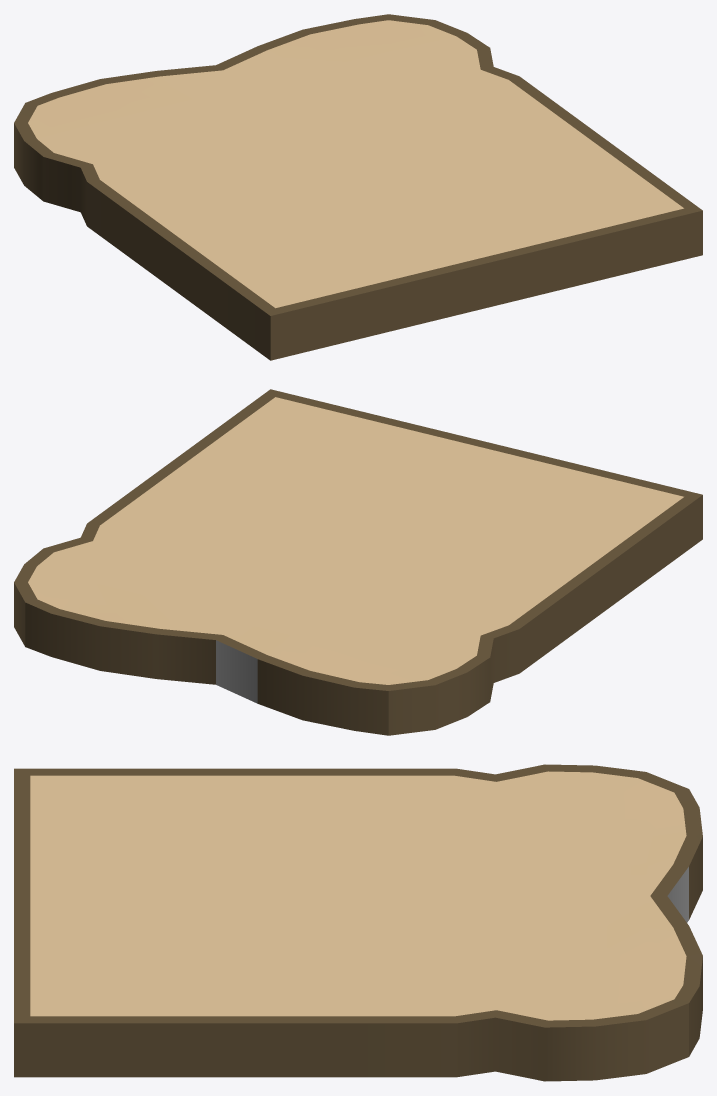
Rendered from bread.fbx.
3 renders of one model, top to bottom at view 1: azimuth 30°, elevation 25°; view 2: azimuth 150°, elevation 25°; view 3: azimuth 270°, elevation 25°, orthographic. The views are drawn at different scales.
Visible parts, largest first — view 1: Bread_Slice; view 2: Bread_Slice; view 3: Bread_Slice.
Boxes of the visible parts, x1,y1,x2,y2 form: Bread_Slice: (14,14,702,360); Bread_Slice: (14,389,702,735); Bread_Slice: (14,764,702,1081).
Bounding box in the file's own units: 0.9501 × 0.091 × 1.05.
